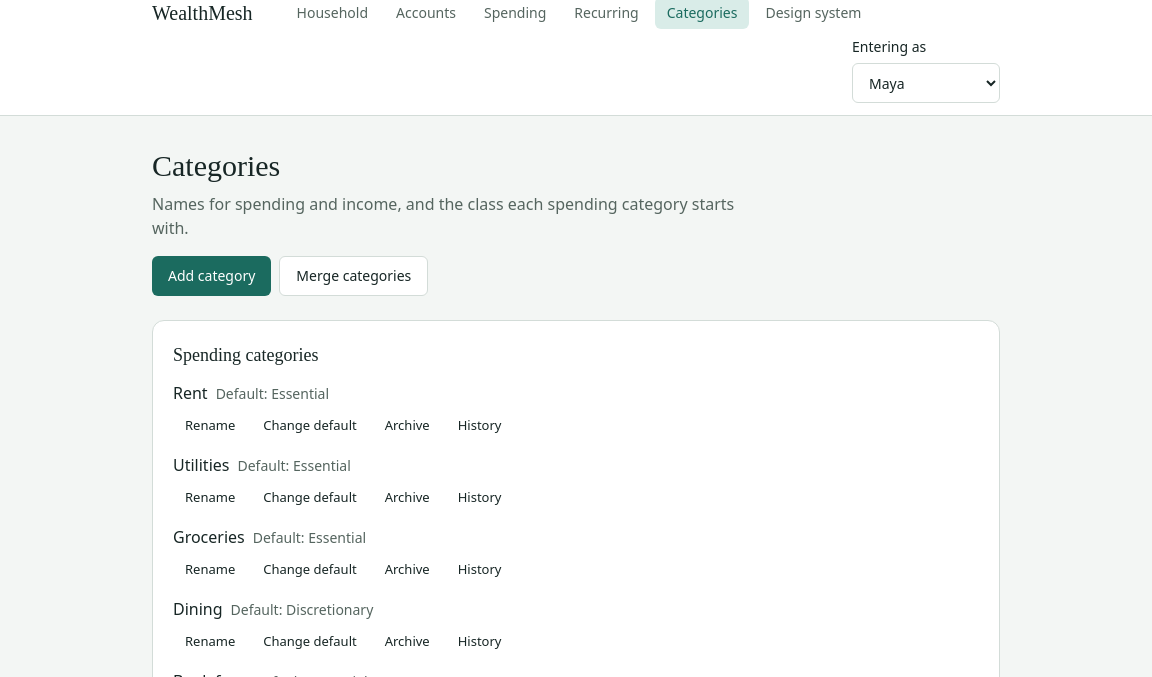
Scenario: category list and creation › V2_CATEGORIES_007 an income category has no default class choice and appears under income
Step 1. Click the button "Add category" → [212, 276], box [152, 256, 271, 296]
(page scrolled)
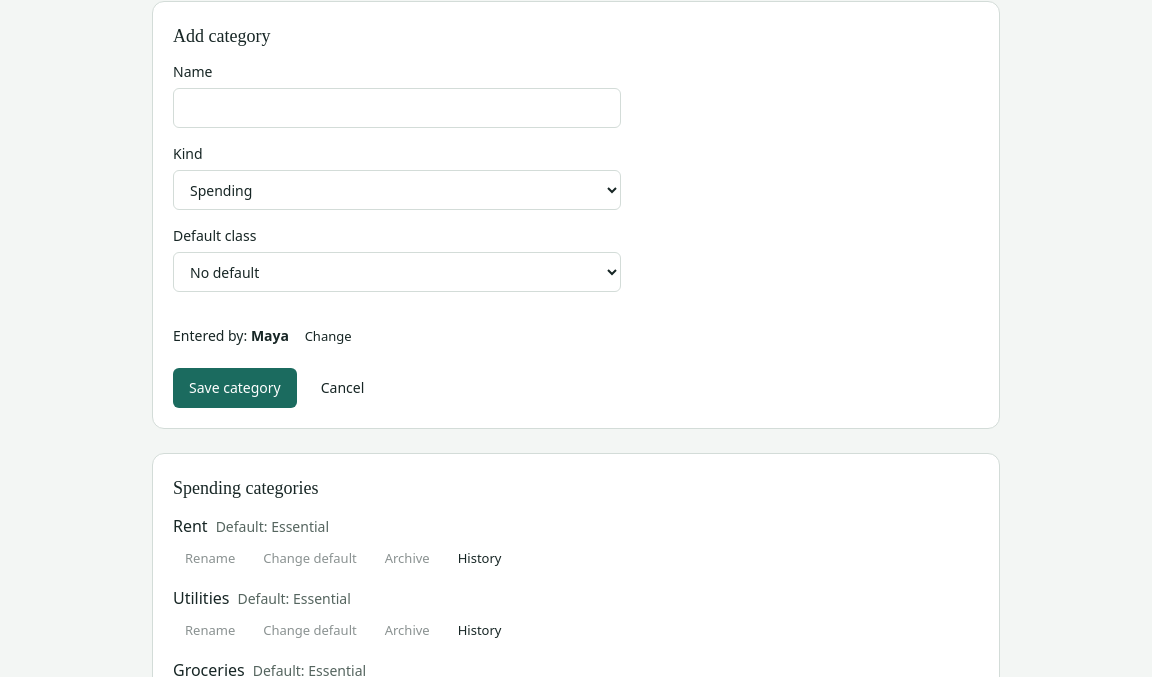
Step 2. Type "Side work" into the field labelled "Name" → [397, 108], box [173, 88, 621, 128]
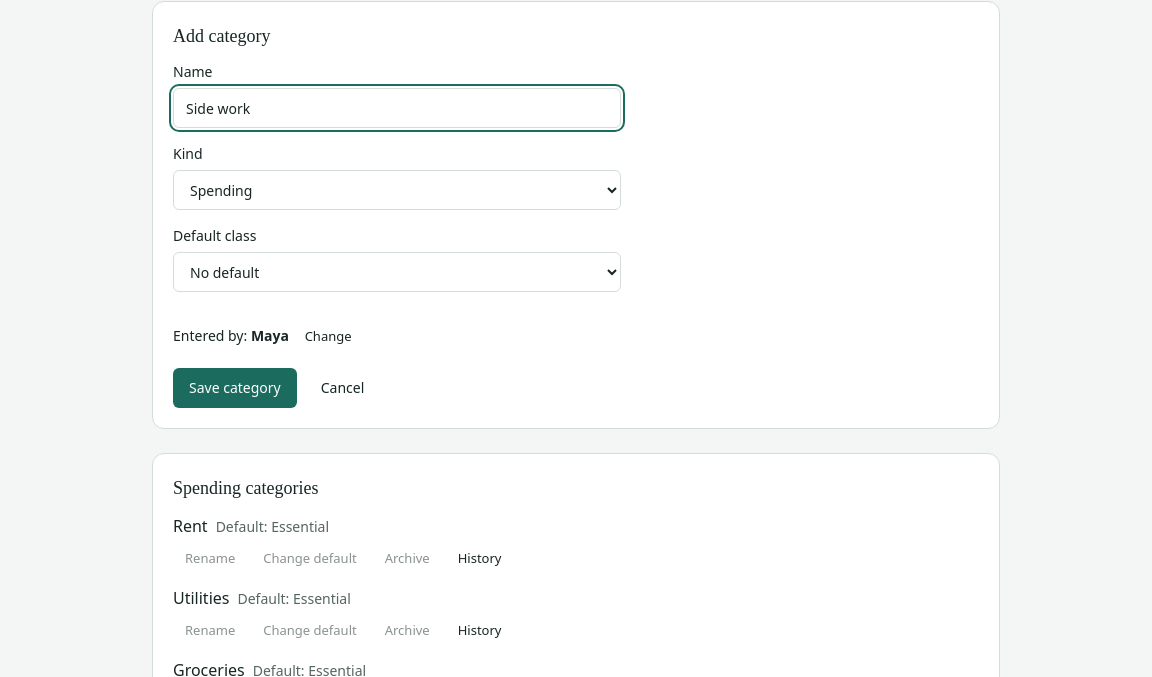
Step 3. Select "Income" in the dropdown labelled "Kind" → [397, 190], box [173, 170, 621, 210]
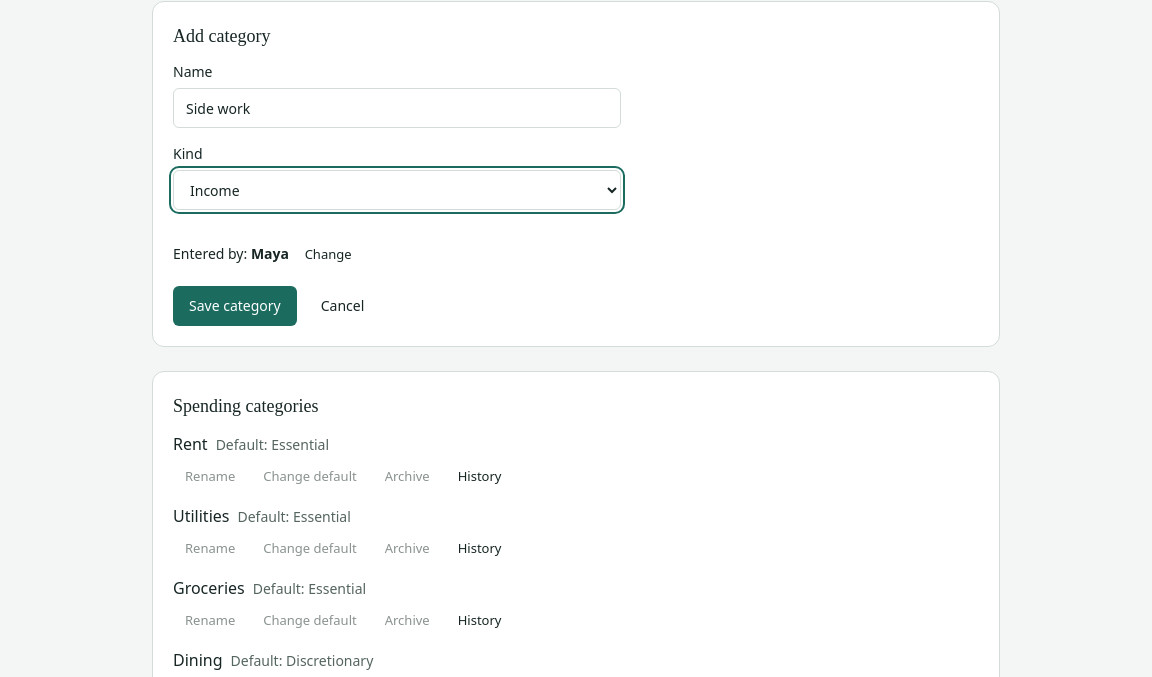
expect the label labelled "Default class" is gone: met
Step 4. Click the button "Save category" → [235, 306], box [173, 286, 297, 326]
(page scrolled)
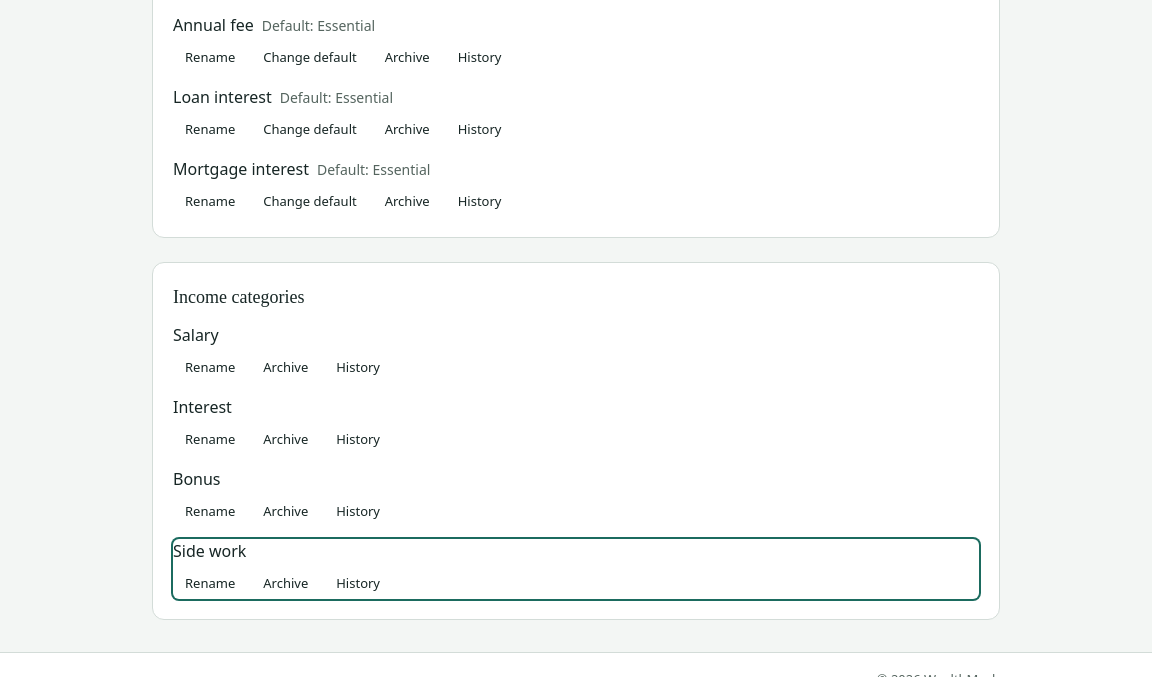
expect the list named "Income categories" does not show "Default:": met, box [173, 323, 979, 599]
expect the text "Side work" is shown: met, box [173, 540, 246, 562]
